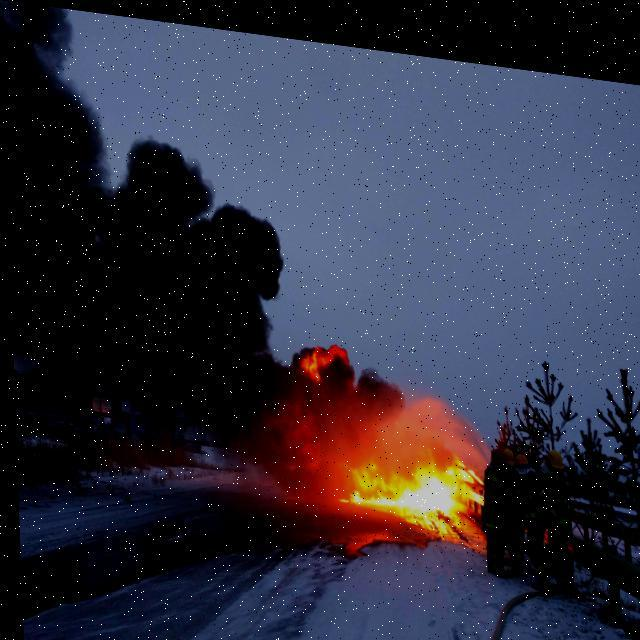Fire: (296, 342, 480, 532)
